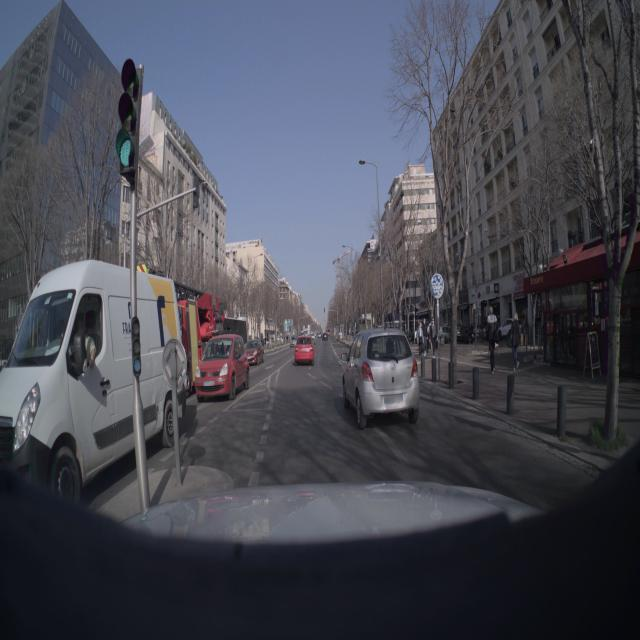green_light: (98, 50, 168, 208)
